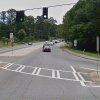crosswalk: (2, 61, 86, 81)
